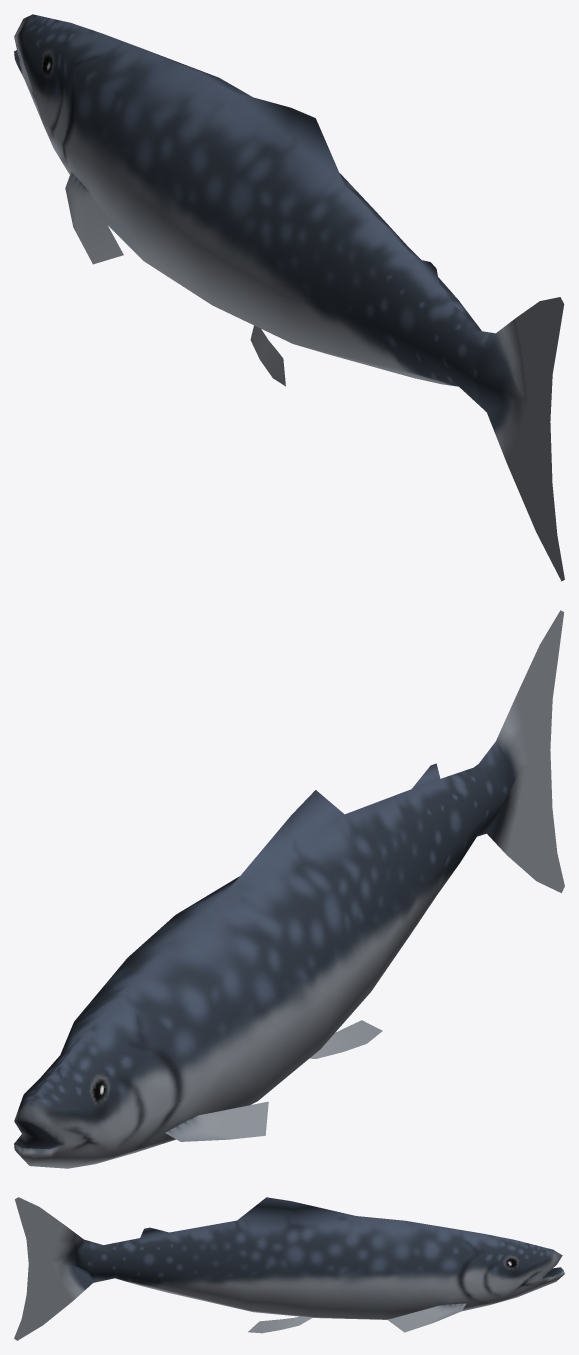
File: Fish.glb
3 renders of one model, top to bottom at view 1: azimuth 30°, elevation 25°; view 2: azimuth 150°, elevation 25°; view 3: azimuth 270°, elevation 25°, orthographic. The views are drawn at different scales.
Visible parts, largest first — view 1: Cube; view 2: Cube; view 3: Cube.
Part boxes in pixels (box(x1,y1,x2,y2)): Cube: box(14, 14, 564, 581); Cube: box(14, 610, 564, 1168); Cube: box(14, 1197, 564, 1340).
Bounding box in the file's own units: 0.2131 × 0.3348 × 1.16.
Materials: 1 (1 with a texture image).
